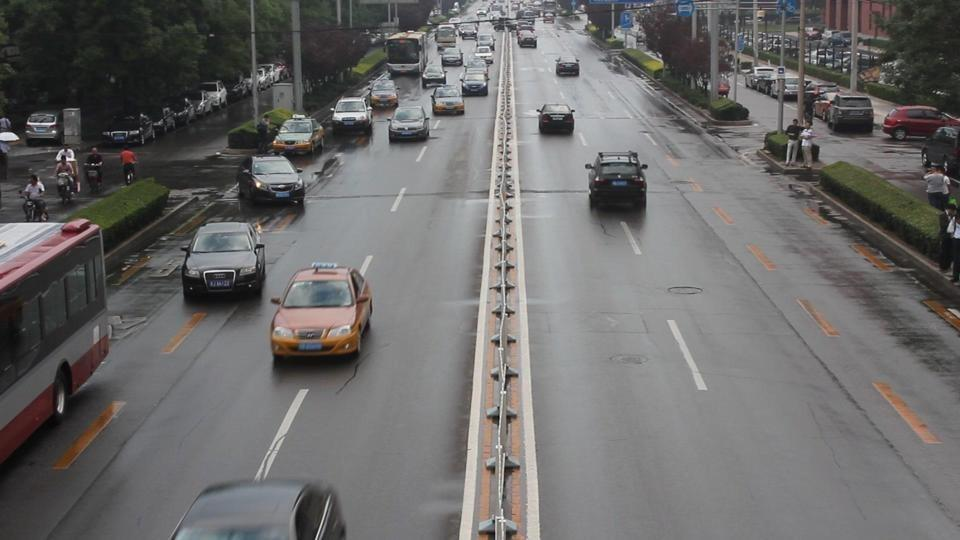car: (170, 477, 348, 539), (267, 261, 374, 360), (181, 220, 267, 299), (821, 96, 936, 135), (237, 154, 306, 210), (586, 148, 648, 210), (881, 106, 959, 140), (272, 116, 326, 156), (826, 93, 875, 133), (103, 113, 158, 147), (921, 125, 960, 172), (388, 102, 431, 142), (331, 97, 373, 137), (537, 101, 576, 134), (368, 76, 401, 112), (25, 111, 61, 144), (431, 85, 465, 115), (746, 67, 781, 93), (461, 67, 488, 96), (555, 56, 580, 77), (439, 47, 464, 67), (516, 26, 538, 48)
